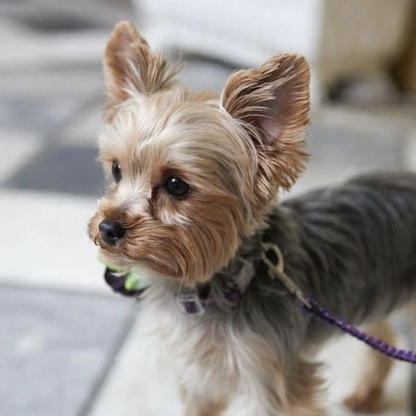yorkshire: (87, 20, 412, 413)
